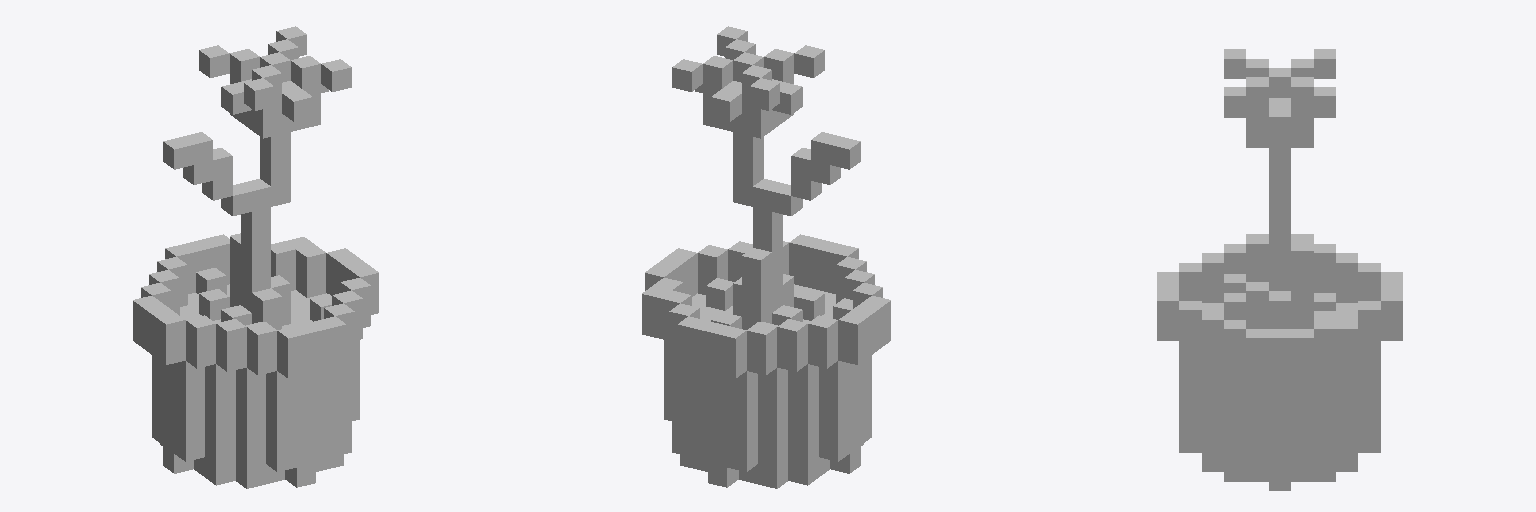
Rendered from flower.obj.
3 views of the same model, side by side, from view 1: azimuth 30°, elevation 25°; view 2: azimuth 150°, elevation 25°; view 3: azimuth 270°, elevation 25° (orthographic).
Visible parts, largest first — view 1: object 1; view 2: object 1; view 3: object 1.
Boxes of the visible parts, x1,y1,x2,y2 form: object 1: [133, 26, 378, 488]; object 1: [642, 26, 890, 488]; object 1: [1157, 49, 1402, 490].
Bounding box in the file's own units: 1.1 × 1.9 × 1.1.